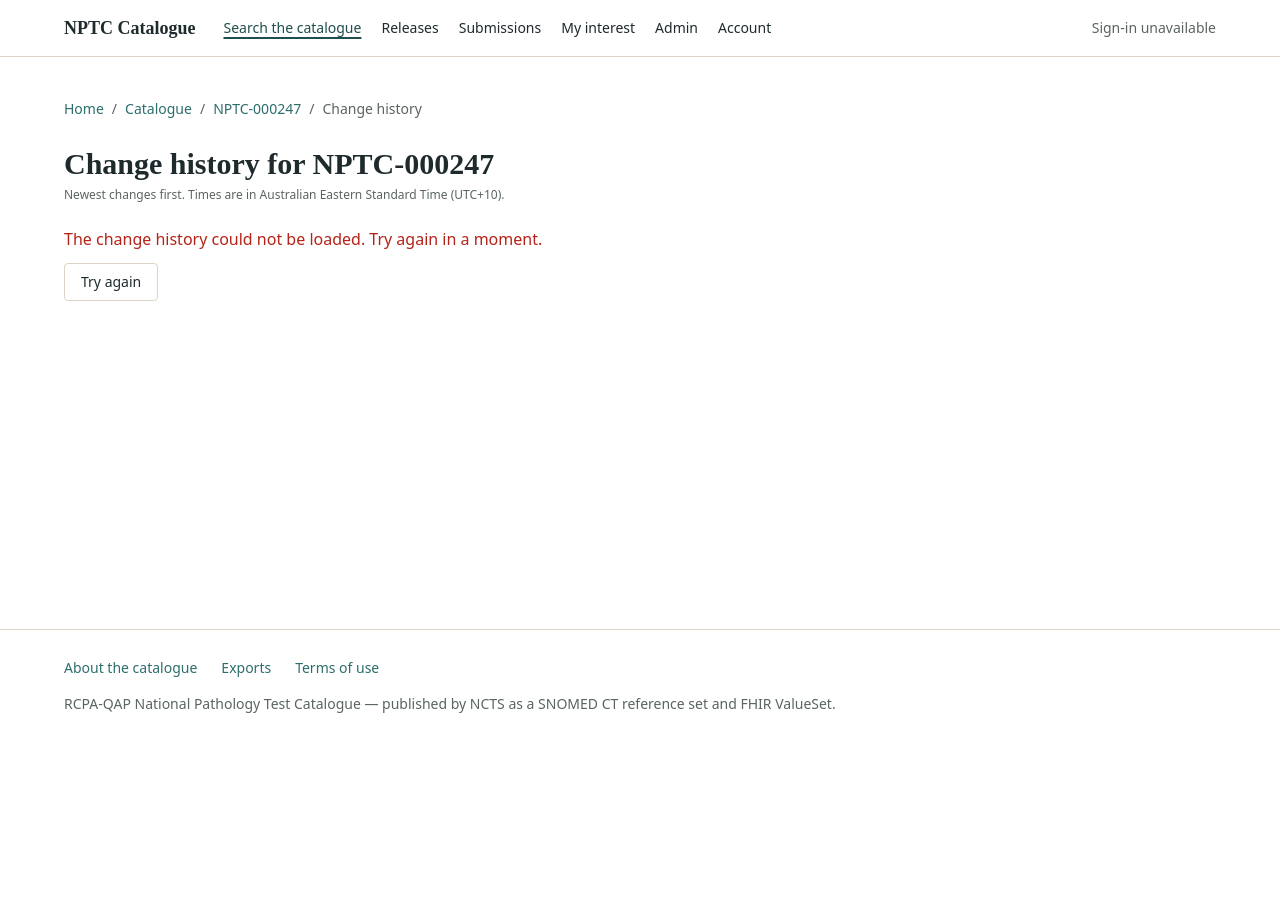
Test case: a history that cannot be shown › offers a retry when the load fails, announces it, and recovers
This screenshot has width=1280, height=900.
Expected: the text "The change history could not be loaded. Try again in a moment." is shown, [64,226,542,250]
Click the button "Try again".
click(111, 282)  # box [64,262,158,300]
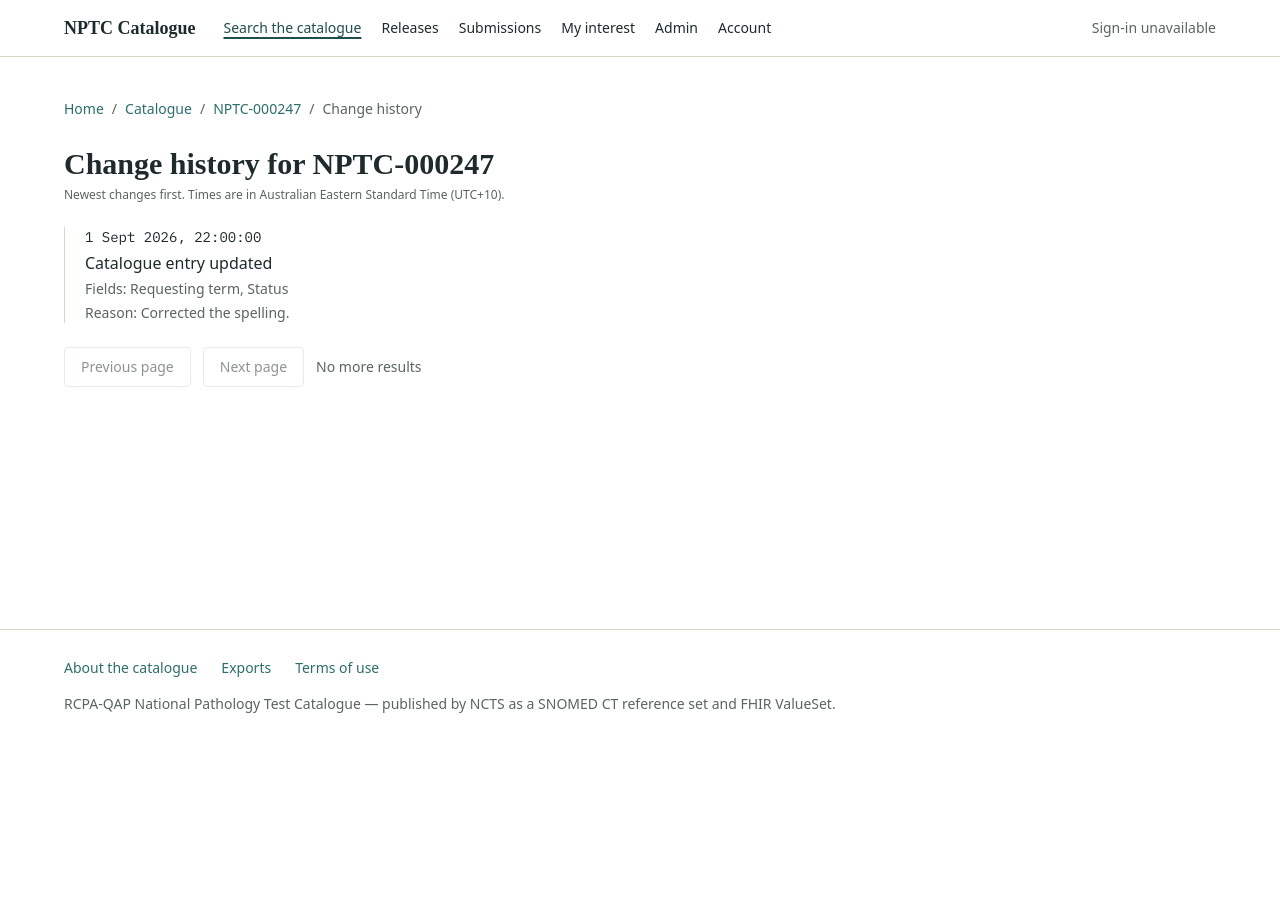
Expected: the text "Reason: Corrected the spelling." is shown, [85,302,289,322]
Expected: the text "The change history could not be loaded. Try again in a moment." is gone
